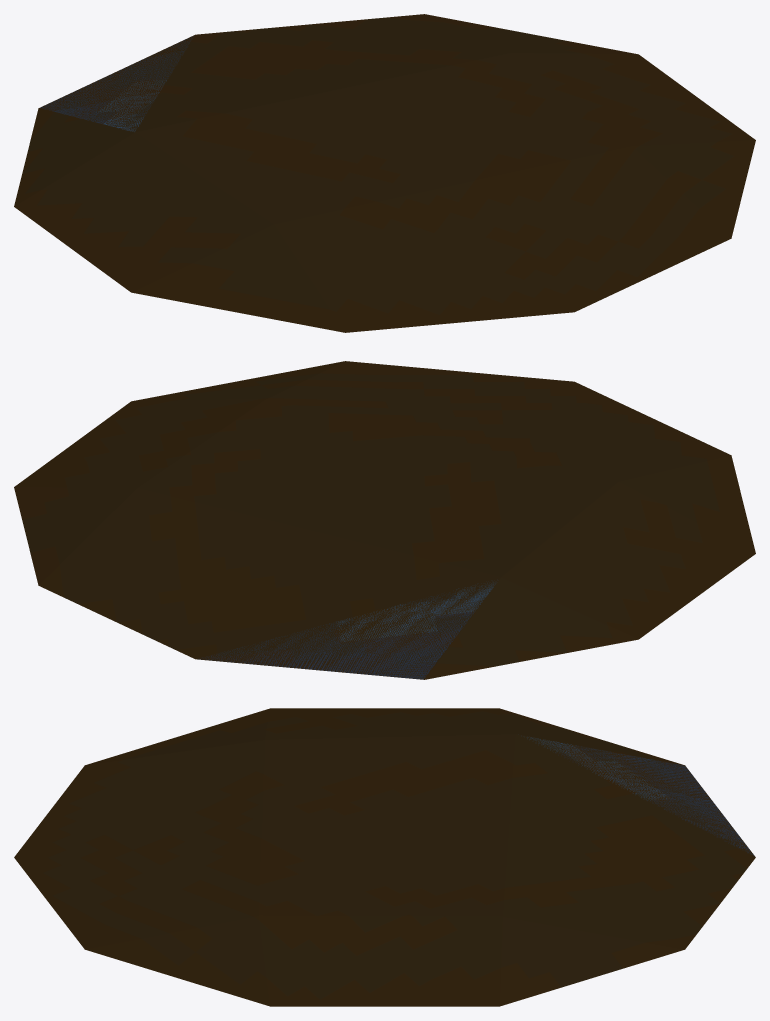
File: Pot_ingredients.glb
3 views of the same model, one above another, from view 1: azimuth 30°, elevation 25°; view 2: azimuth 150°, elevation 25°; view 3: azimuth 270°, elevation 25° (orthographic). The views are drawn at different scales.
Visible parts, largest first — view 1: Stew, Wine; view 2: Stew, Wine, Water; view 3: Stew, Wine.
Part boxes in pixels (<box>): Stew: <box>14,14,755,332</box>; Wine: <box>40,36,193,131</box>; Stew: <box>14,361,755,679</box>; Wine: <box>198,584,493,679</box>; Water: <box>255,589,490,678</box>; Stew: <box>14,708,755,1006</box>; Wine: <box>531,737,754,856</box>.
Size of the model in its own units: 0.21 by 0.0118 by 0.2208.
Materials: 1 (1 with a texture image).
